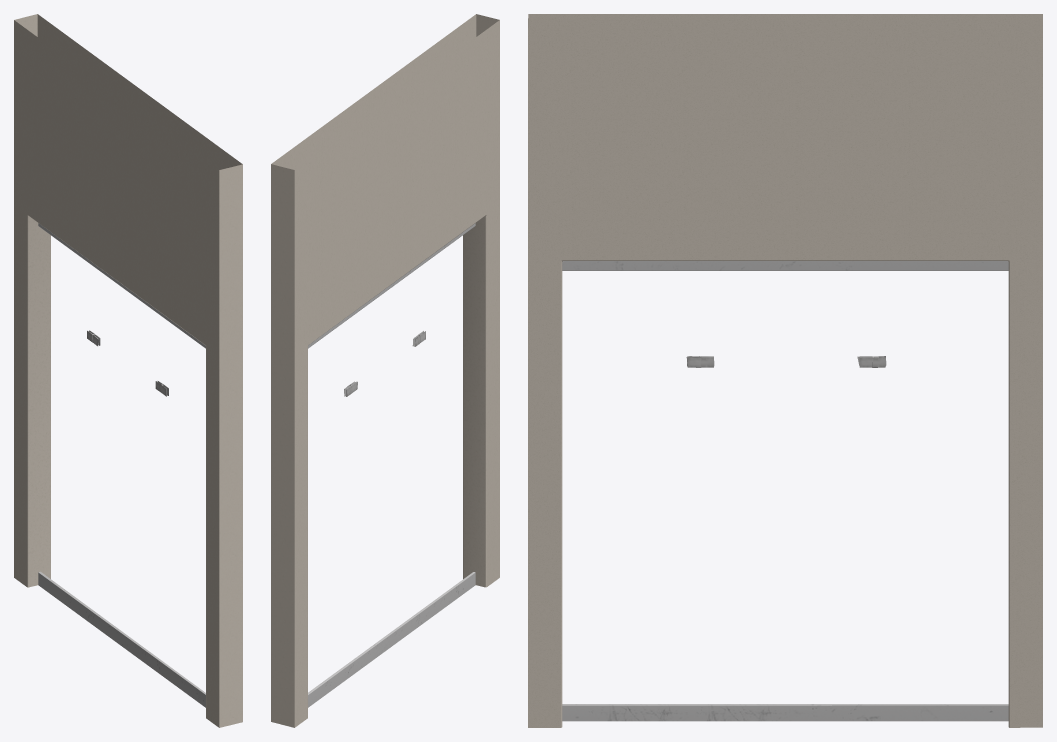
File: SM_Office_Wall01aa.fbx
3 views of the same model, side by side, from view 1: azimuth 30°, elevation 25°; view 2: azimuth 150°, elevation 25°; view 3: azimuth 270°, elevation 25° (orthographic). The views are drawn at different scales.
Visible parts, largest first — view 1: SM_Office_Wall01aa_LOD0; view 2: SM_Office_Wall01aa_LOD0; view 3: SM_Office_Wall01aa_LOD0.
Boxes of the visible parts, x1,y1,x2,y2 form: SM_Office_Wall01aa_LOD0: [14, 14, 242, 727]; SM_Office_Wall01aa_LOD0: [271, 14, 499, 727]; SM_Office_Wall01aa_LOD0: [528, 14, 1042, 727].
Size of the model in its own units: 19.96 by 300 by 450.
